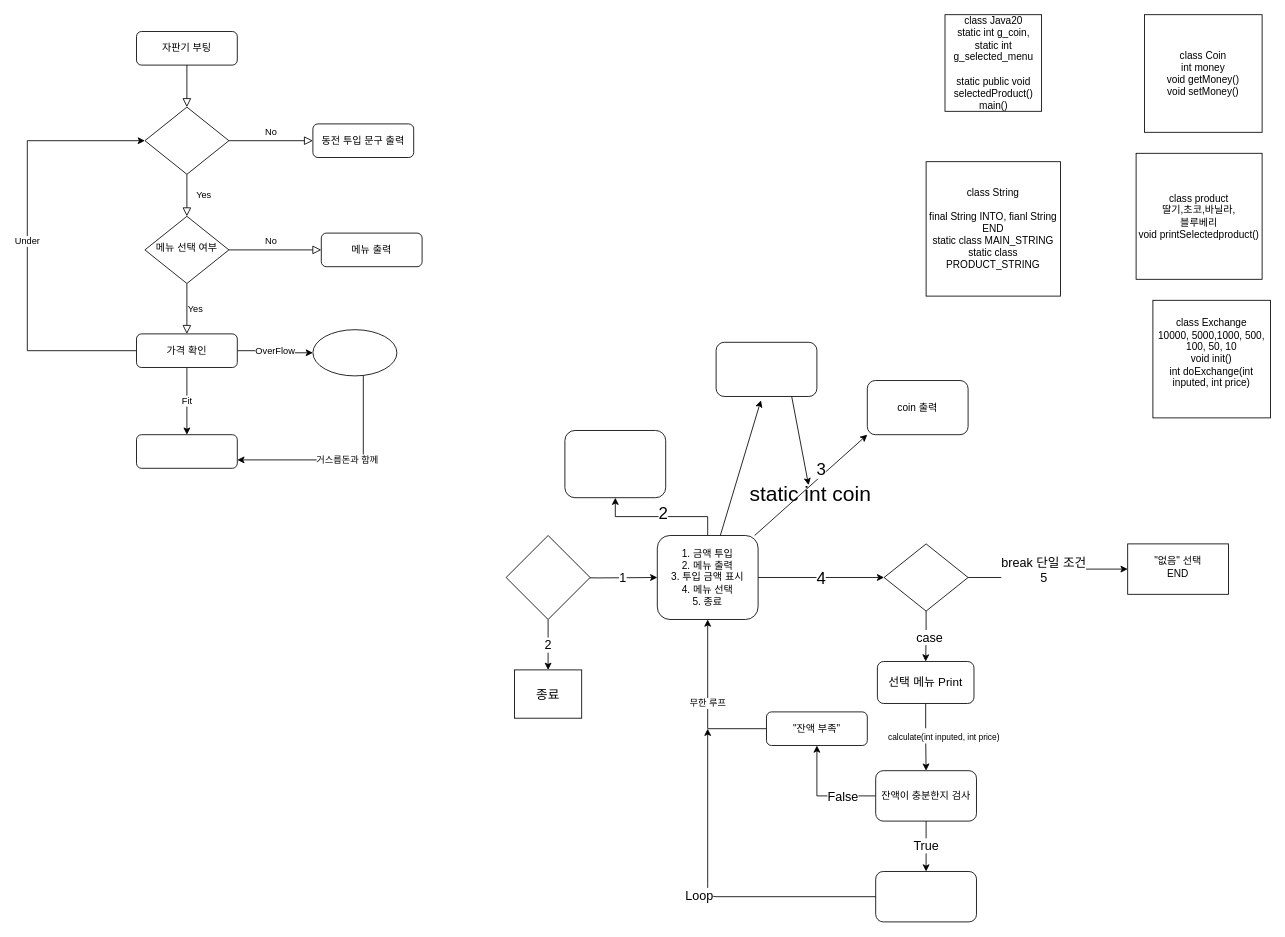
Some shapes in this 1285 by 937 pixel diagram are drawn without their labels. The shapes that lost their labels are listed below. From the top down, each one's centre as x and y in pixels, then its label:
[186,140]: 동전 투입 여부
[354,352]: 거스름돈 계산
[766,368]: coin 입력 받기
[186,451]: 아이스크림 주기
[615,464]: 1. 아메리카노 2. 카페라떼 3. 카레멜 마끼아또 4. 오늘의 커피
[547,577]: 1. 시작 2. 종료
[925,577]: 메뉴 선택 switch
[925,896]: 출력 선택 제품&&잔액
